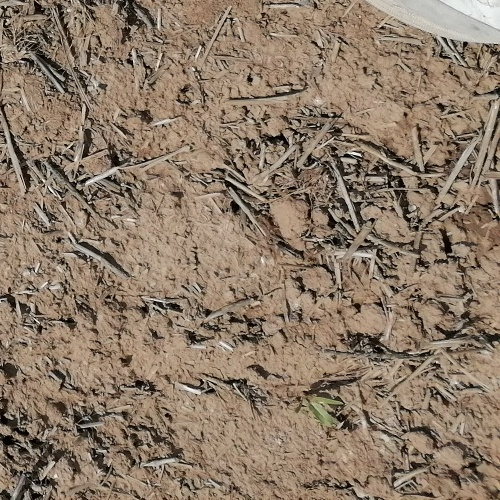beet: (292, 392, 346, 429)
